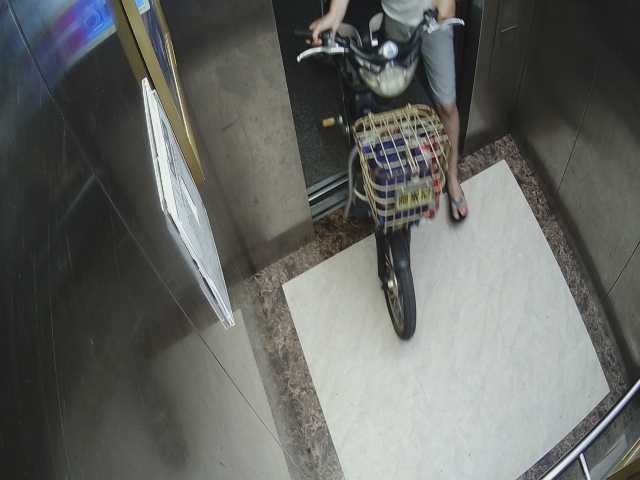emotor: (302, 9, 441, 342)
